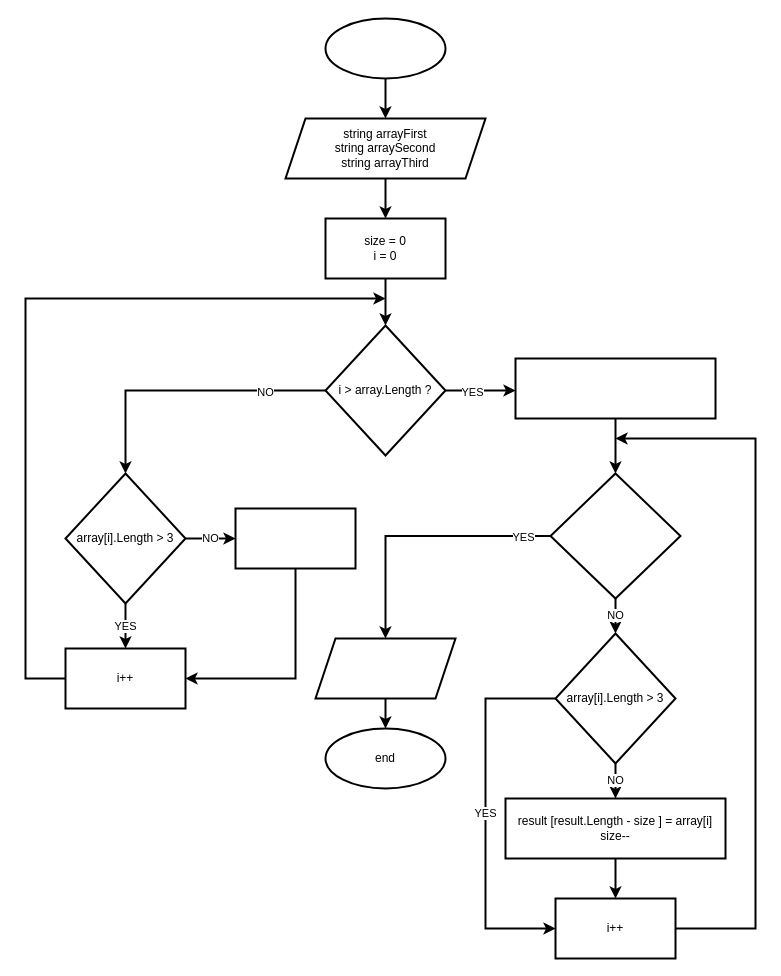
Image size: 781x976. Some labels were removed from this diagram. The shapes that lost their labels are listed below. From the top down, each one's box as (x1, y1, x2, y2) in pixels, then its label:
(324, 17, 446, 79): start
(514, 357, 716, 419): string[ ] result = new string[size] i = 0
(234, 507, 356, 569): size++
(549, 472, 681, 599): i > array.Length
(314, 637, 456, 699): arrayFirst, result arraySecond, result arrayThird, result
